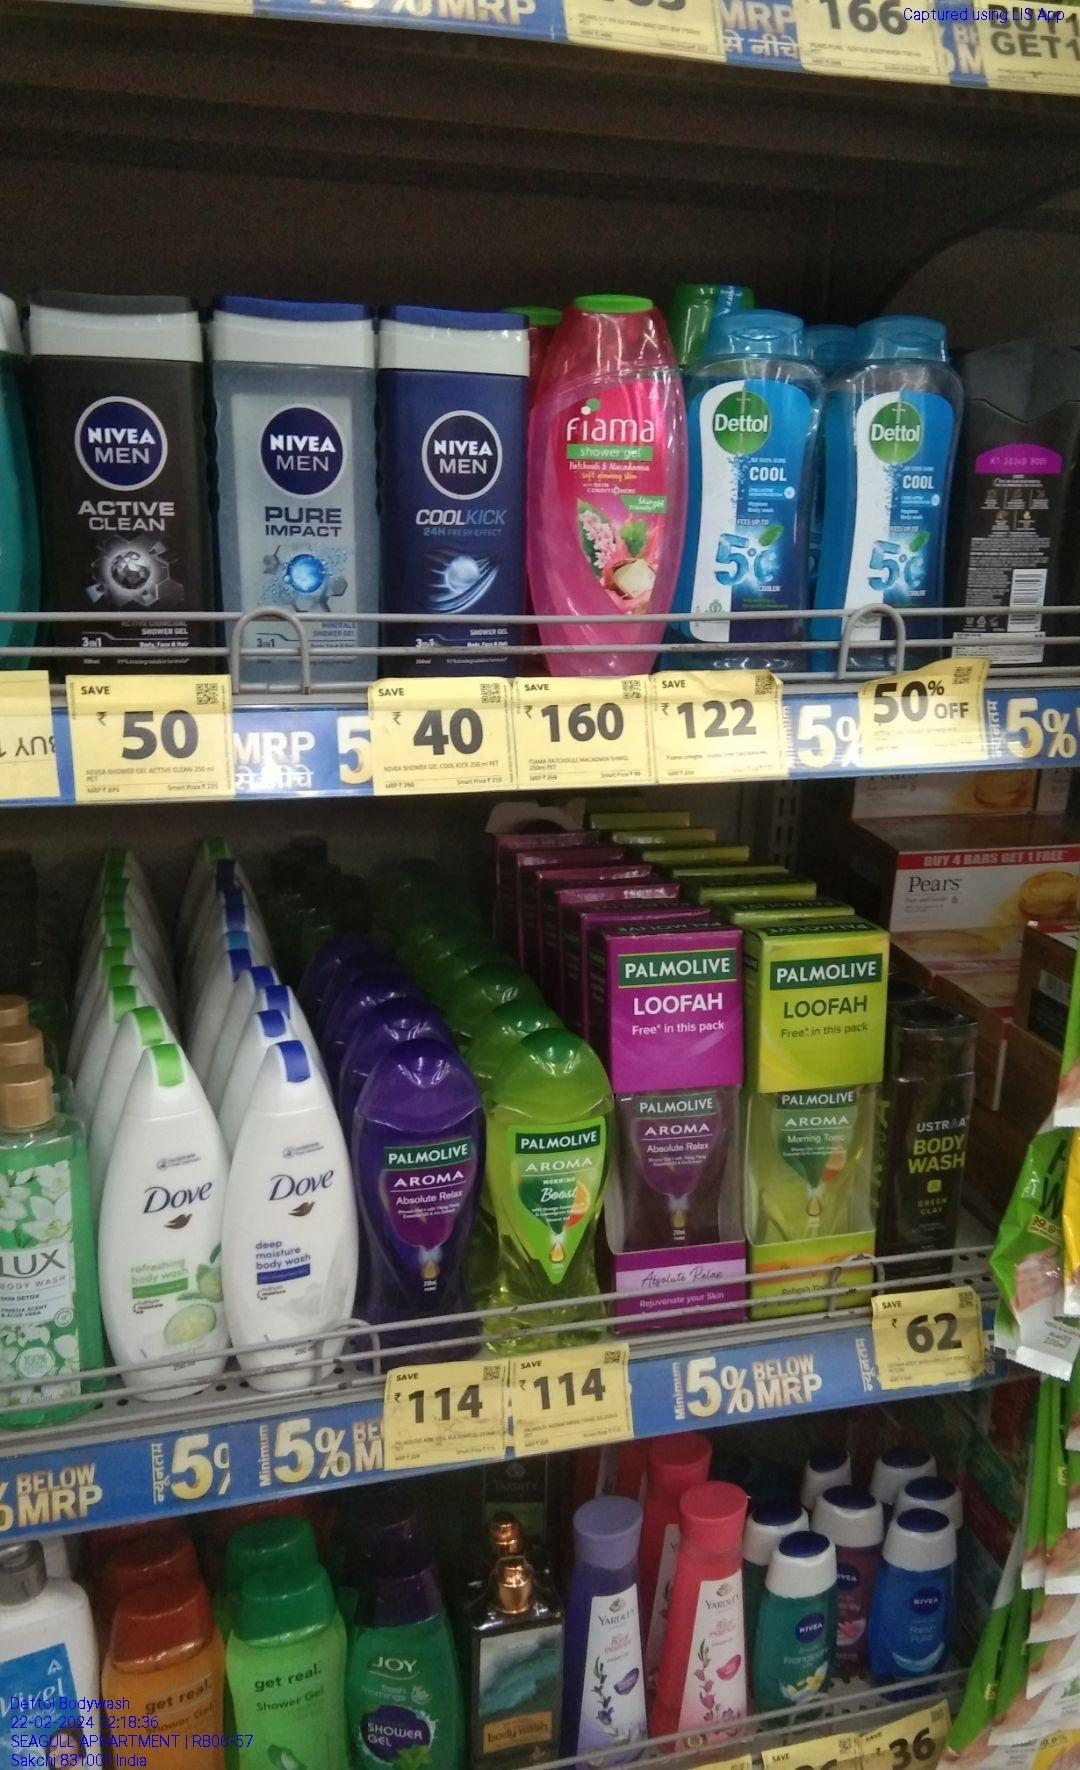Dettol_Bodywash_Cool: (827, 300, 969, 662), (682, 306, 819, 671)
Dove_Deep_Moisture_Body_Wash_250ML: (231, 1035, 348, 1393)
Dove_Refreshing_Body_Wash_250ML: (116, 1048, 223, 1395)
Fiama_Shower_Gel_Patchouli_and_Macadamia_250ML: (526, 295, 678, 683)
Joy_Shower_Gel_Mint_and_Eucalyptus_250ML: (348, 1565, 458, 1770)
Lux_Body_Wash_Skin_Detox_Freesia_Scent_and_Alove_Vera_245ML: (0, 1061, 97, 1419)
Nivea_Shower_Gel_Frangipani_and_Oil_250ML: (758, 1541, 852, 1741)
Palmolive_Aroma_Morning_Tonic_Shower_Gel_250ML: (491, 1030, 608, 1352)
Palmolive_Aroma_Relax_250ML: (358, 1051, 482, 1372)
